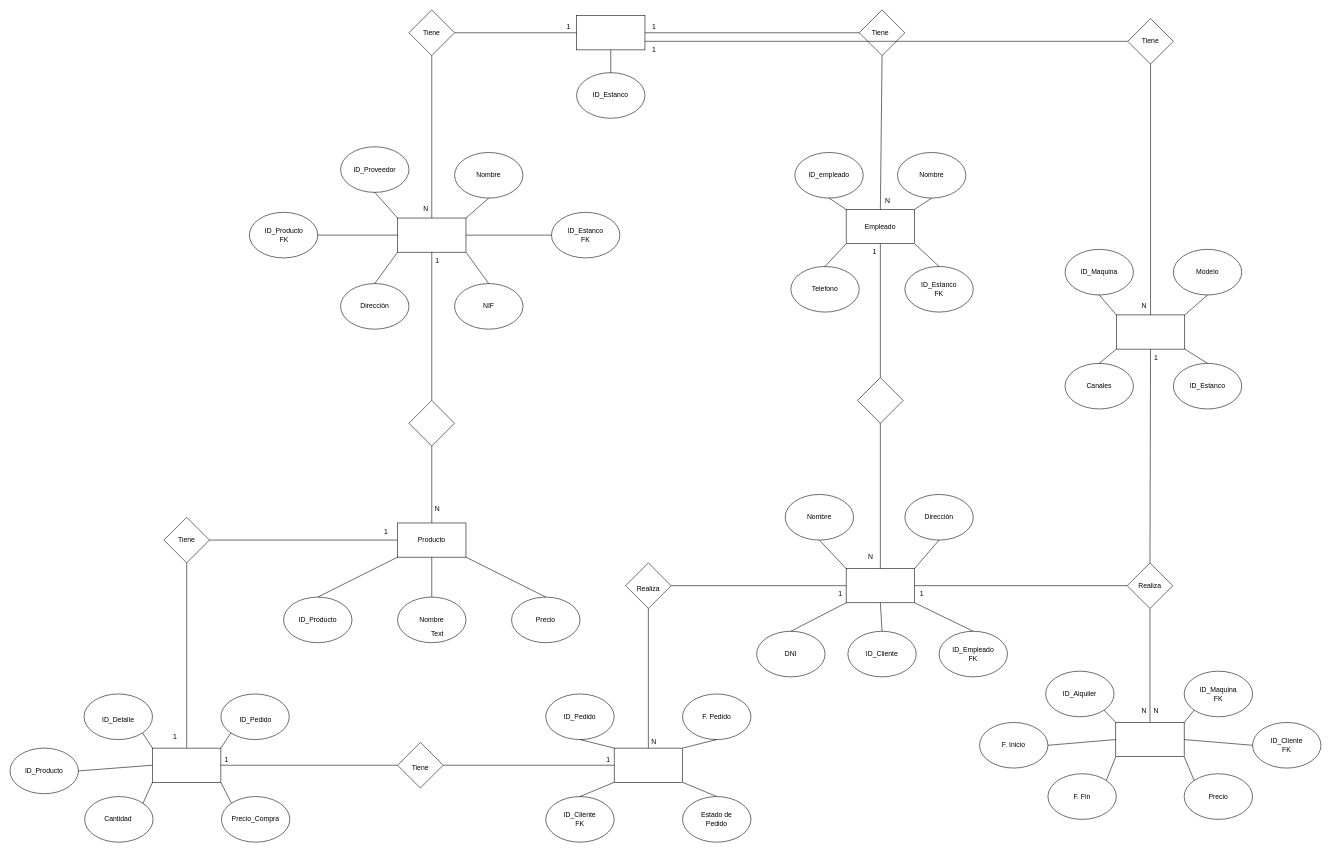
Some shapes in this 1331 by 852 pixel diagram are drawn without their labels. Here are the shapes that lost their labels. From the top down, the centre of each, then its label:
point (610, 32): Estanco
point (431, 234): Proveedor
point (1150, 331): Maquina
point (880, 400): Atiende
point (431, 423): Proveen
point (880, 585): Cliente
point (1149, 739): Alquiler
point (186, 765): Detalle Pedido
point (648, 765): Pedido
